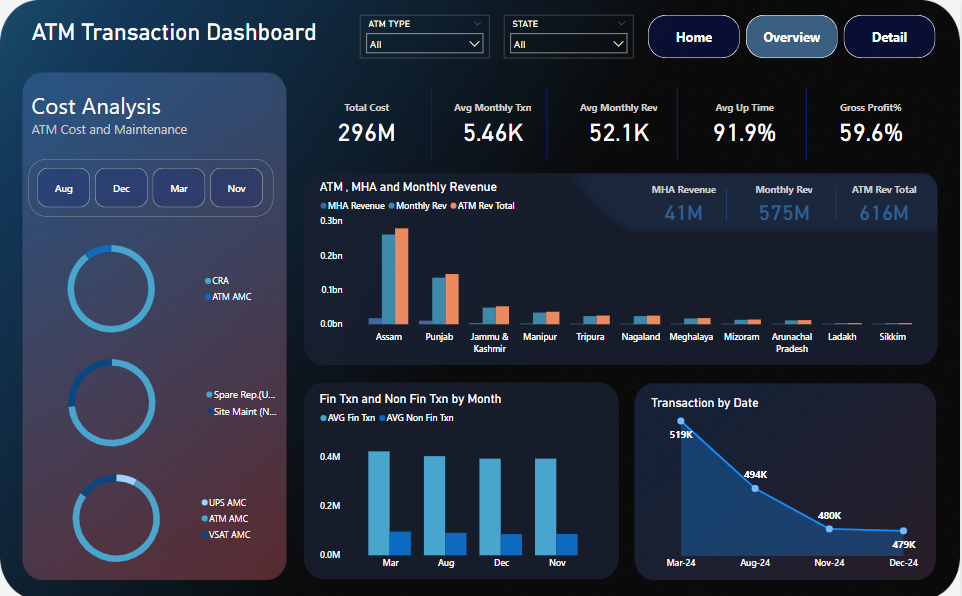

This screenshot's page, from the dashboard's own definition file:
{"tool":"powerbi","page":{"name":"Overview","canvas":[1600,1000],"ordinal":1},"visuals":[{"type":"donutChart","fields":{"Y":["Sum(Dataset.Spare Rep.(UPS))","Sum(Dataset.Site Maint (Non Asset))"]},"box":[24,576,456,192],"z":0},{"type":"donutChart","fields":{"Y":["Sum(Dataset.UPS AMC)","Sum(Dataset.ATM AMC)","Sum(Dataset.VSAT AMC)"]},"box":[48,768,384,192],"z":1000},{"type":"donutChart","fields":{"Y":["Sum(Dataset.CRA)","Sum(Dataset.ATM AMC)"]},"box":[24,384,408,192],"z":2000},{"type":"clusteredColumnChart","title":"ATM , MHA and Monthly Revenue","fields":{"Y":["Sum(Dataset.MHA Revenue)","Sum(Dataset.Monthly Rev)","Sum(Dataset.ATM Rev Total)"],"Category":["Dataset.STATE"]},"box":[528,288,1032,312],"z":3000},{"type":"clusteredColumnChart","title":"Fin Txn and Non Fin Txn by Month","fields":{"Y":["Sum(Dataset.AVG Fin Txn)","Sum(Dataset.AVG Non Fin Txn)"],"Category":["Dataset.Short_month"]},"box":[528,648,480,312],"z":4000},{"type":"areaChart","title":"Transaction by Date","fields":{"Category":["Dataset.Month_yr"],"Y":["Sum(Dataset.AVG Total TXN)"]},"box":[1080,648,480,312],"z":5000},{"type":"advancedSlicerVisual","fields":{"Values":["Dataset.Short_month"]},"box":[48,264,408,96],"z":6000},{"type":"textbox","box":[48,144,408,96],"z":7000},{"type":"cardVisual","fields":{"Data":["Sum(Dataset. Total Cost  )","Avg(Dataset.Monthly Txn)","Avg(Dataset.Monthly Rev)","Avg(Dataset.Up Time)","Dataset.Gross_profit %"]},"box":[504,144,1056,120],"z":7001},{"type":"cardVisual","fields":{"Data":["Sum(Dataset.MHA Revenue)","Sum(Dataset.Monthly Rev)","Sum(Dataset.ATM Rev Total)"]},"box":[1056,288,504,96],"z":7002},{"type":"shape","box":[696,144,48,120],"z":7003},{"type":"shape","box":[888,144,48,120],"z":7004},{"type":"shape","box":[1104,144,48,120],"z":7005},{"type":"shape","box":[1320,144,48,120],"z":7006},{"type":"pageNavigator","box":[1080,24,480,72],"z":7007},{"type":"textbox","box":[48,24,504,96],"z":7008},{"type":"slicer","fields":{"Values":["Dataset.ATM TYPE"]},"box":[600,24,216,72],"z":7009},{"type":"slicer","fields":{"Values":["Dataset.STATE"]},"box":[840,24,216,72],"z":7011}]}

Visuals, with their boxes in screenshot pixels (x1, y1, x2, y2), scaled from the page's 1600x1000 canvas onto the 962x596 screenshot:
donutChart - Sum(Dataset.Spare Rep.(UPS)) x Sum(Dataset.Site Maint (Non Asset)): select_region(14, 343, 289, 458)
donutChart - Sum(Dataset.UPS AMC) x Sum(Dataset.ATM AMC): select_region(29, 458, 260, 572)
donutChart - Sum(Dataset.CRA) x Sum(Dataset.ATM AMC): select_region(14, 229, 260, 343)
"ATM , MHA and Monthly Revenue" clusteredColumnChart: select_region(317, 172, 938, 358)
"Fin Txn and Non Fin Txn by Month" clusteredColumnChart: select_region(317, 386, 606, 572)
"Transaction by Date" areaChart: select_region(649, 386, 938, 572)
advancedSlicerVisual - Dataset.Short_month: select_region(29, 157, 274, 215)
textbox: select_region(29, 86, 274, 143)
cardVisual - Sum(Dataset. Total Cost  ) x Avg(Dataset.Monthly Txn): select_region(303, 86, 938, 157)
cardVisual - Sum(Dataset.MHA Revenue) x Sum(Dataset.Monthly Rev): select_region(635, 172, 938, 229)
shape: select_region(418, 86, 447, 157)
shape: select_region(534, 86, 563, 157)
shape: select_region(664, 86, 693, 157)
shape: select_region(794, 86, 823, 157)
pageNavigator: select_region(649, 14, 938, 57)
textbox: select_region(29, 14, 332, 72)
slicer - Dataset.ATM TYPE: select_region(361, 14, 491, 57)
slicer - Dataset.STATE: select_region(505, 14, 635, 57)
